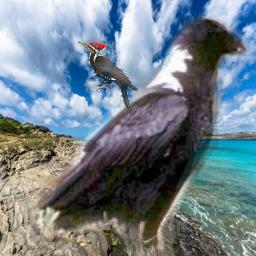Crow: (27, 8, 249, 256)
Woodpecker: (77, 41, 138, 116)
